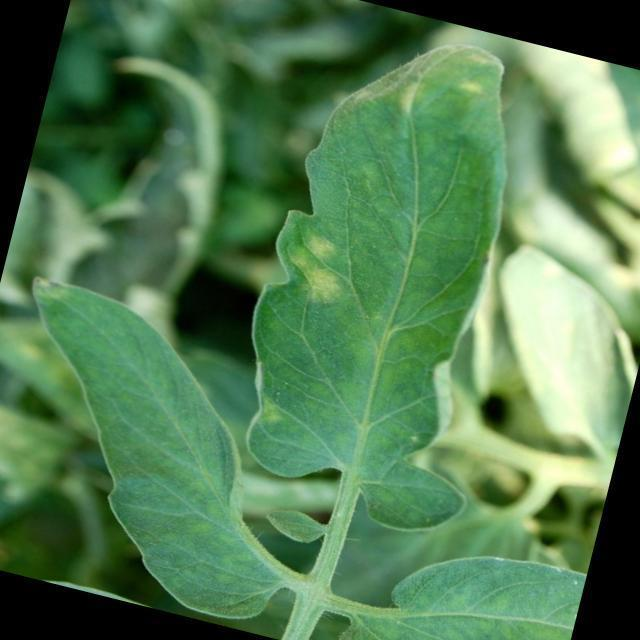Mosaic Virus: (233, 171, 392, 459)
